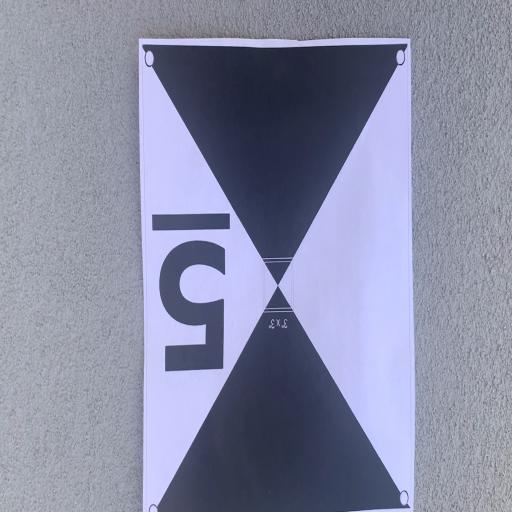target5: (139, 37, 414, 512)
